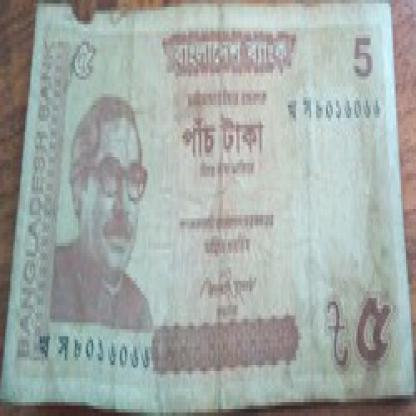Five Taka: (176, 111, 268, 159), (353, 288, 394, 367), (66, 31, 96, 83), (351, 28, 376, 83)
